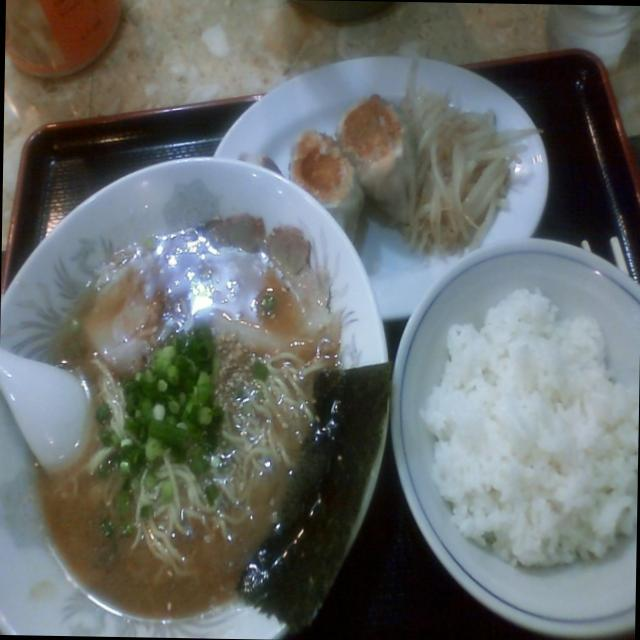Rice: (424, 269, 640, 566)
